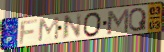F: (18, 18, 39, 45)
M: (106, 8, 131, 36), (37, 16, 60, 43)
N: (61, 13, 82, 42)
O: (83, 11, 103, 38)
Q: (128, 7, 148, 33)
